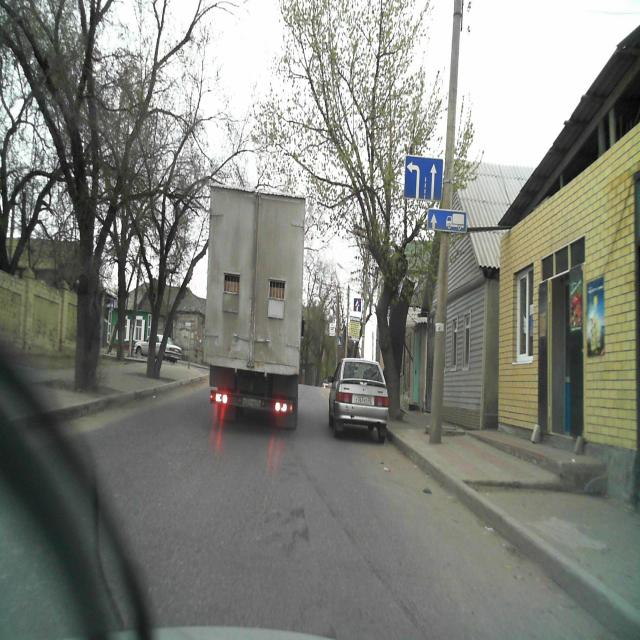road sign: (405, 155, 445, 200), (427, 208, 466, 233)
